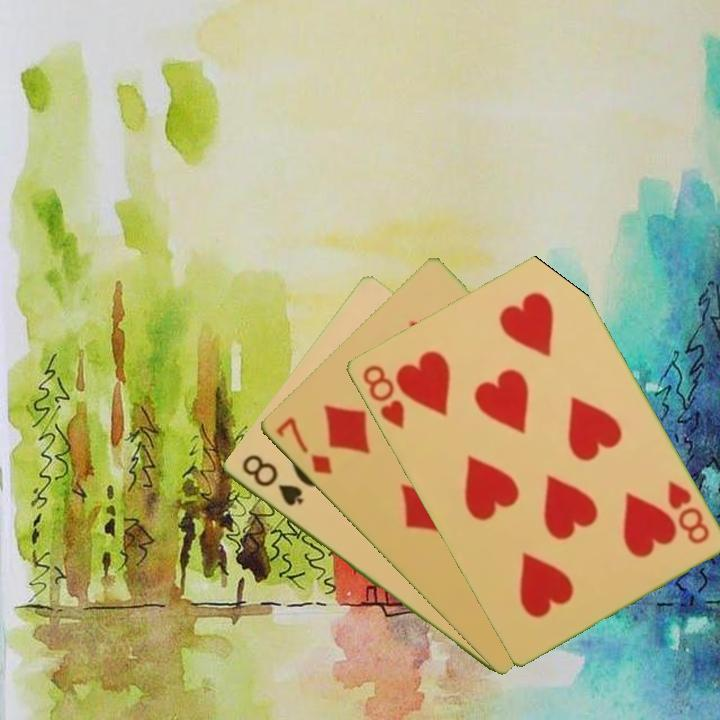7d: (272, 413, 335, 478)
8h: (358, 361, 407, 432), (663, 476, 712, 547)
8s: (237, 451, 306, 510)
